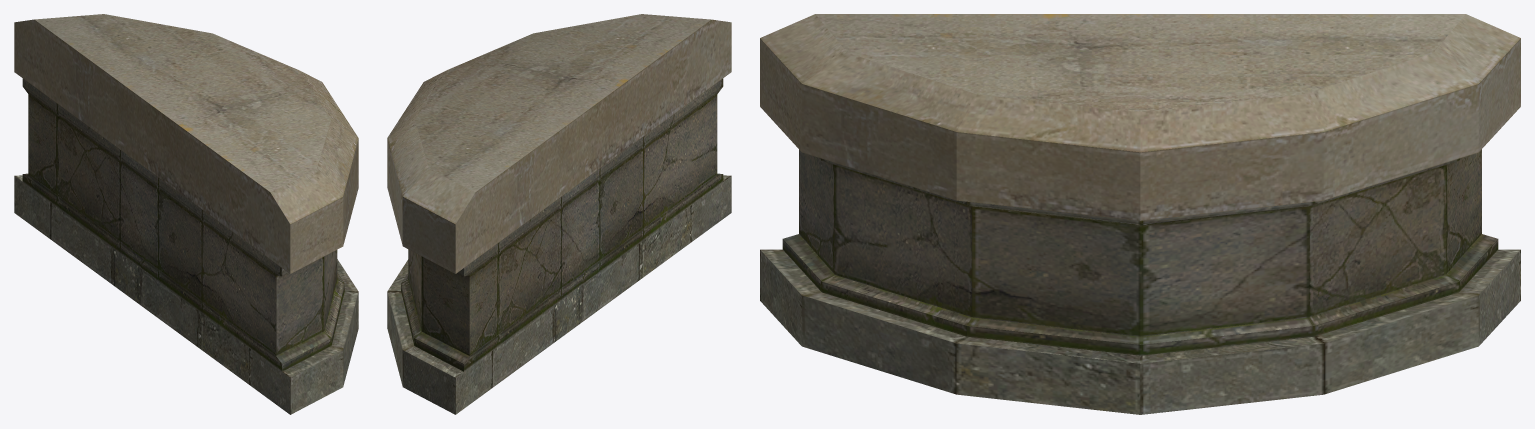
File: bg_lut_lutomb_wall06c_sm_old.FBX
3 renders of one model, left to right at view 1: azimuth 30°, elevation 25°; view 2: azimuth 150°, elevation 25°; view 3: azimuth 270°, elevation 25°, orthographic. The views are drawn at different scales.
Parts seen in each view (by area): view 1: bg_lut_lutomb_wall06c_sm_old; view 2: bg_lut_lutomb_wall06c_sm_old; view 3: bg_lut_lutomb_wall06c_sm_old.
Boxes of the visible parts, bbox=[...] form: bg_lut_lutomb_wall06c_sm_old: bbox=[14, 14, 358, 414]; bg_lut_lutomb_wall06c_sm_old: bbox=[387, 14, 731, 414]; bg_lut_lutomb_wall06c_sm_old: bbox=[760, 14, 1520, 414].
Size of the model in its own units: 80.8 by 94.56 by 227.
